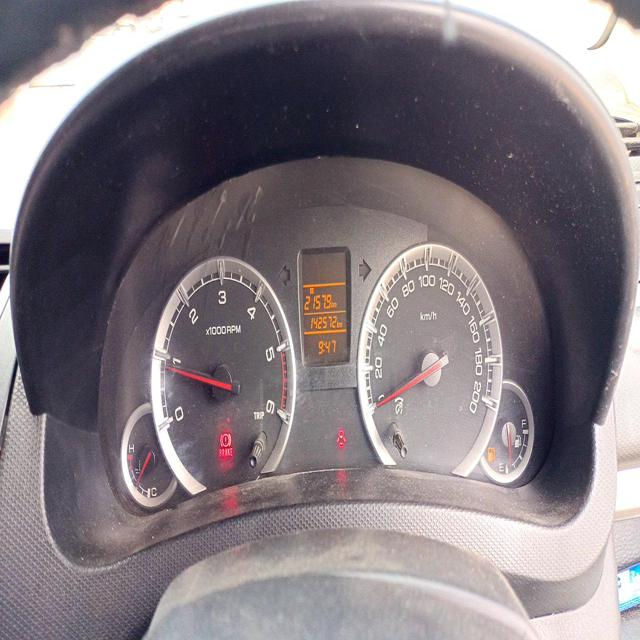odometer: (310, 313, 337, 330)
